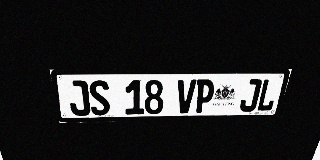1: (124, 80, 144, 115)
8: (145, 80, 164, 114)
J: (66, 80, 91, 116), (238, 79, 263, 112)
L: (255, 79, 280, 111)
P: (194, 79, 216, 113)
S: (88, 80, 111, 116)
V: (176, 79, 197, 113)
